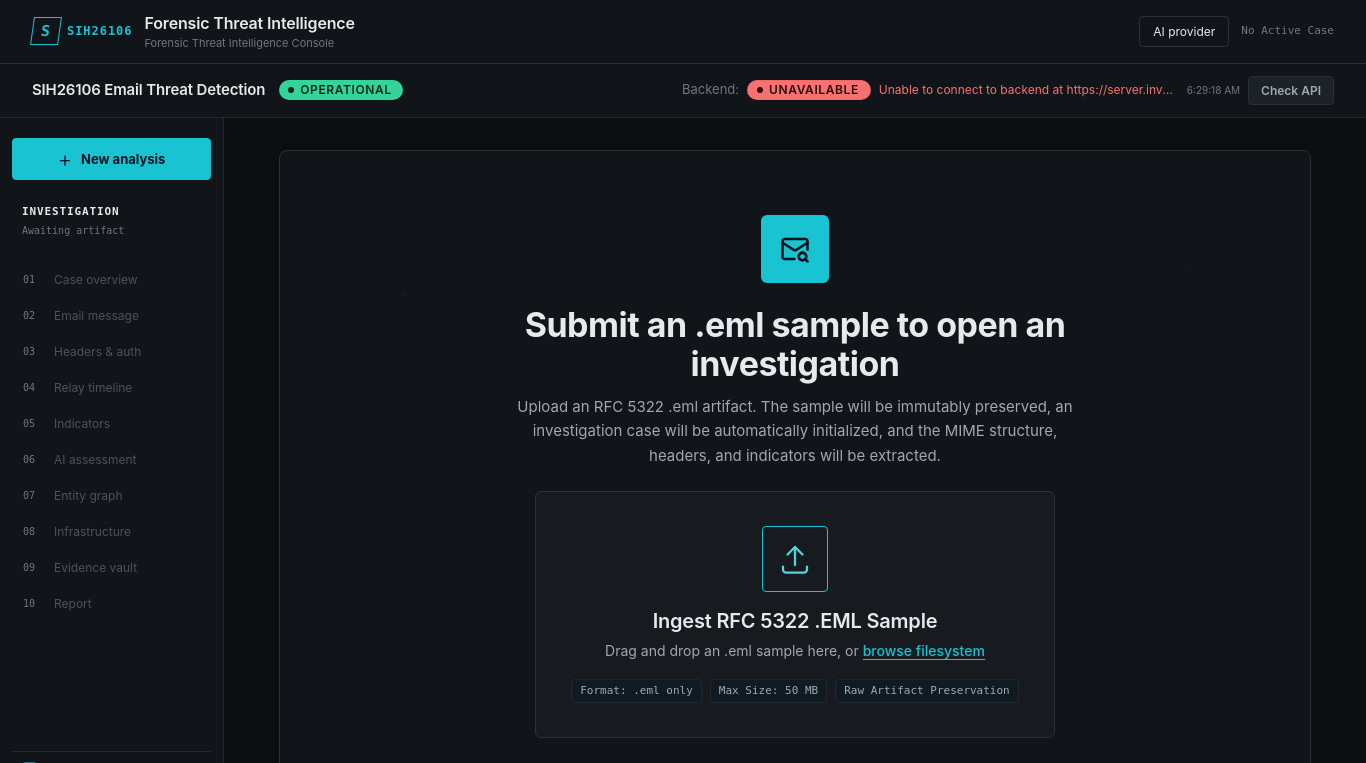
Test: App Component › re-checks backend health when user clicks the retry button
Expected: the element with test id "backend-status-badge" reads "Unavailable", top-left (769, 82), bottom-right (859, 97)
Click the button with test id "refresh-health-btn" at (1291, 90), box top-left (1248, 76), bottom-right (1334, 104)
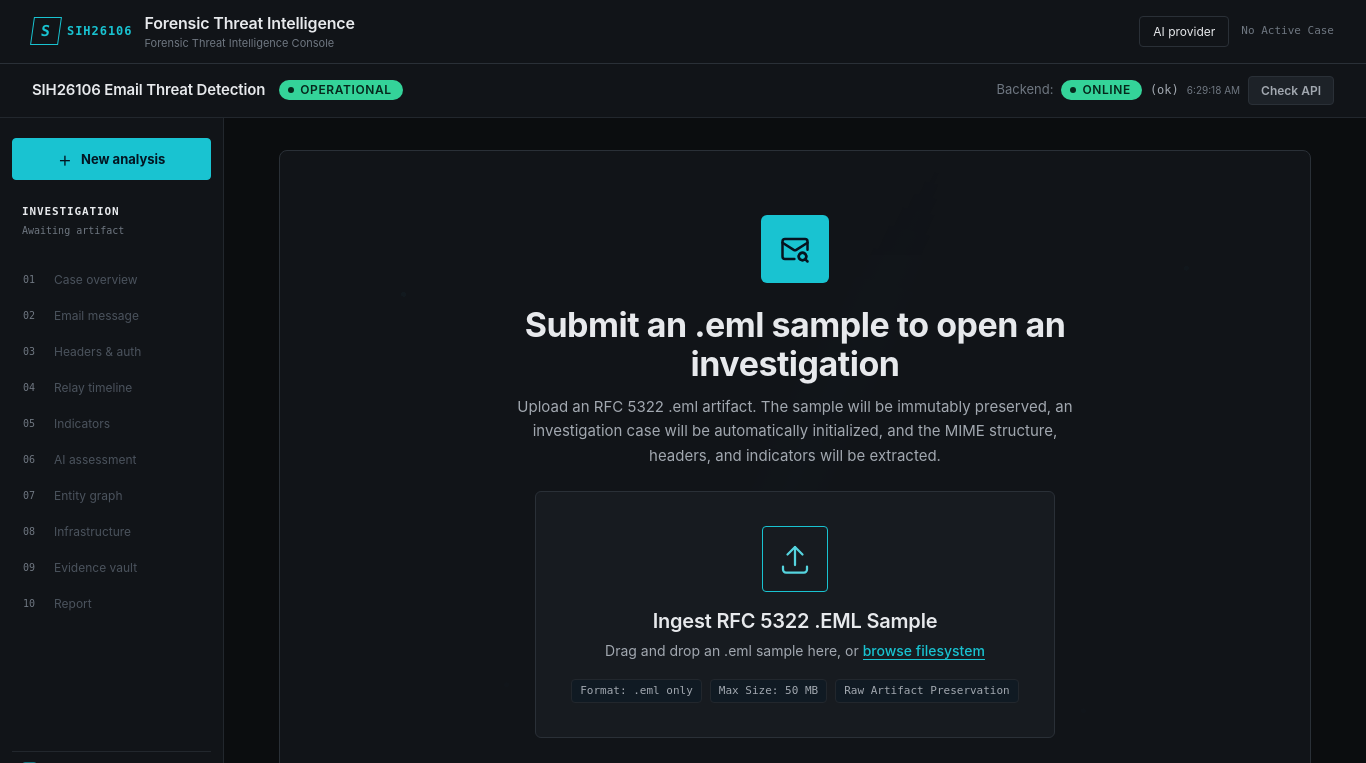
Expected: the element with test id "backend-status-badge" reads "Online", top-left (1082, 82), bottom-right (1131, 97)
